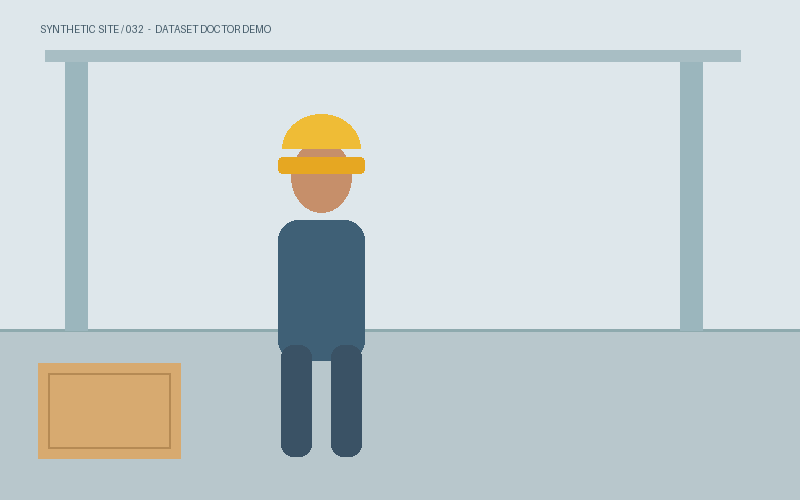Safety-Helmet: (278, 127, 364, 173)
